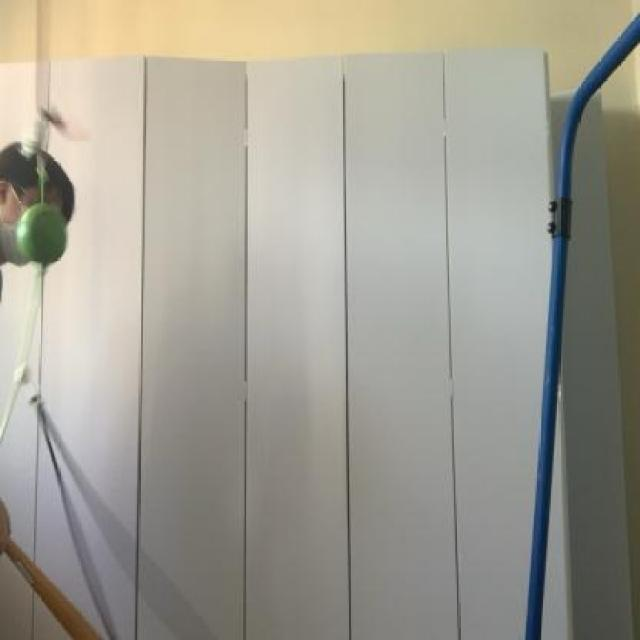baseball: (8, 200, 72, 269)
